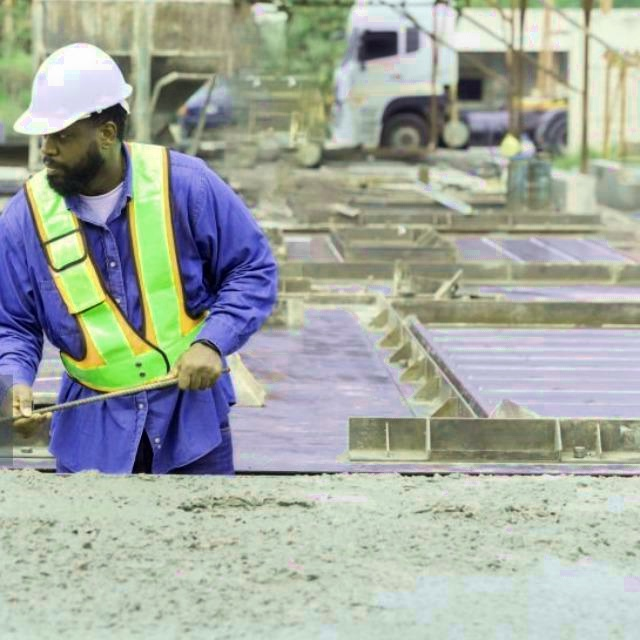Con_Casco: (16, 40, 132, 196)
Con_Chaleco: (30, 142, 209, 392)
